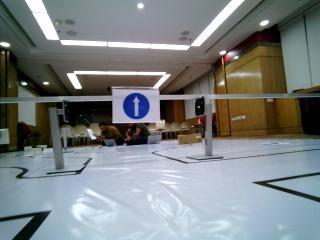straight: (113, 88, 161, 121)
